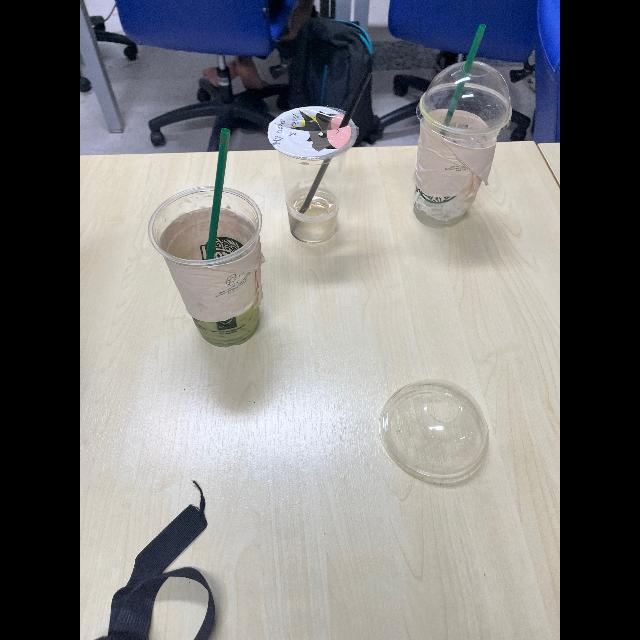plastic_cup: (148, 182, 264, 350), (404, 77, 514, 231), (265, 100, 359, 248)
plastic_cup_lid: (376, 374, 500, 490), (412, 55, 518, 141)
straw: (296, 66, 376, 216), (435, 20, 489, 138), (203, 126, 234, 260)
